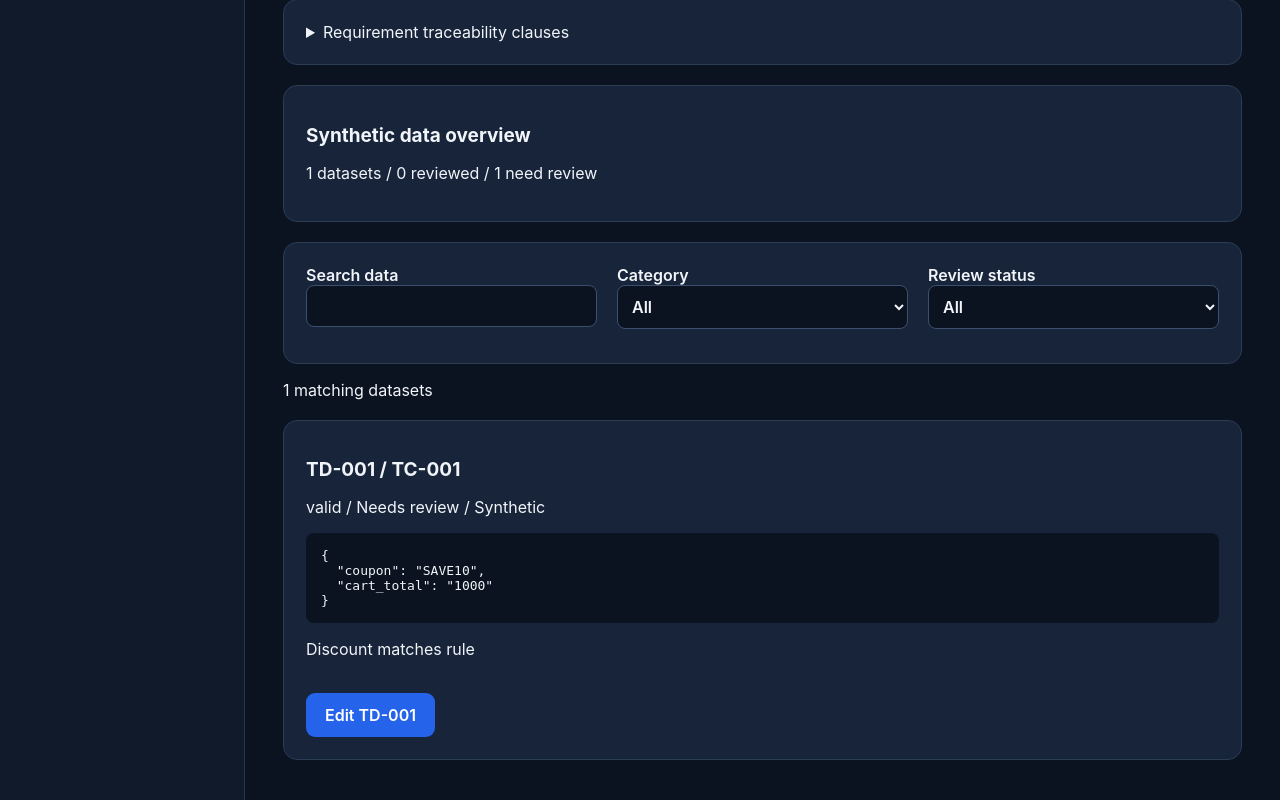
Test case: invalid fixture JSON cannot be saved
The width and height of the screenshot is (1280, 800).
(page scrolled)
Click the button "Edit TD-001". click: (370, 715)
box: top-left (306, 693), bottom-right (435, 737)
(page scrolled)
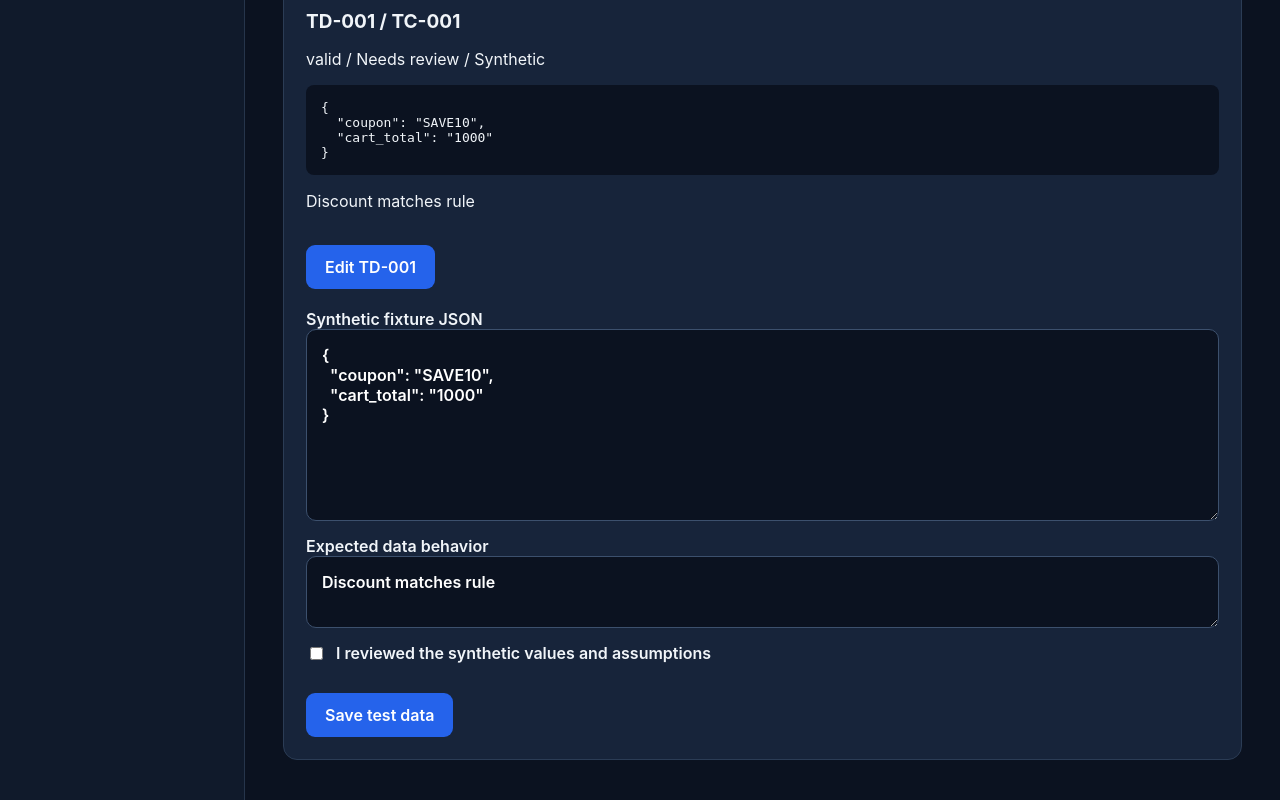
Replace the text in the text box labelled "Synthetic fixture JSON" with "not json". click: (762, 425)
box: top-left (306, 329), bottom-right (1219, 521)
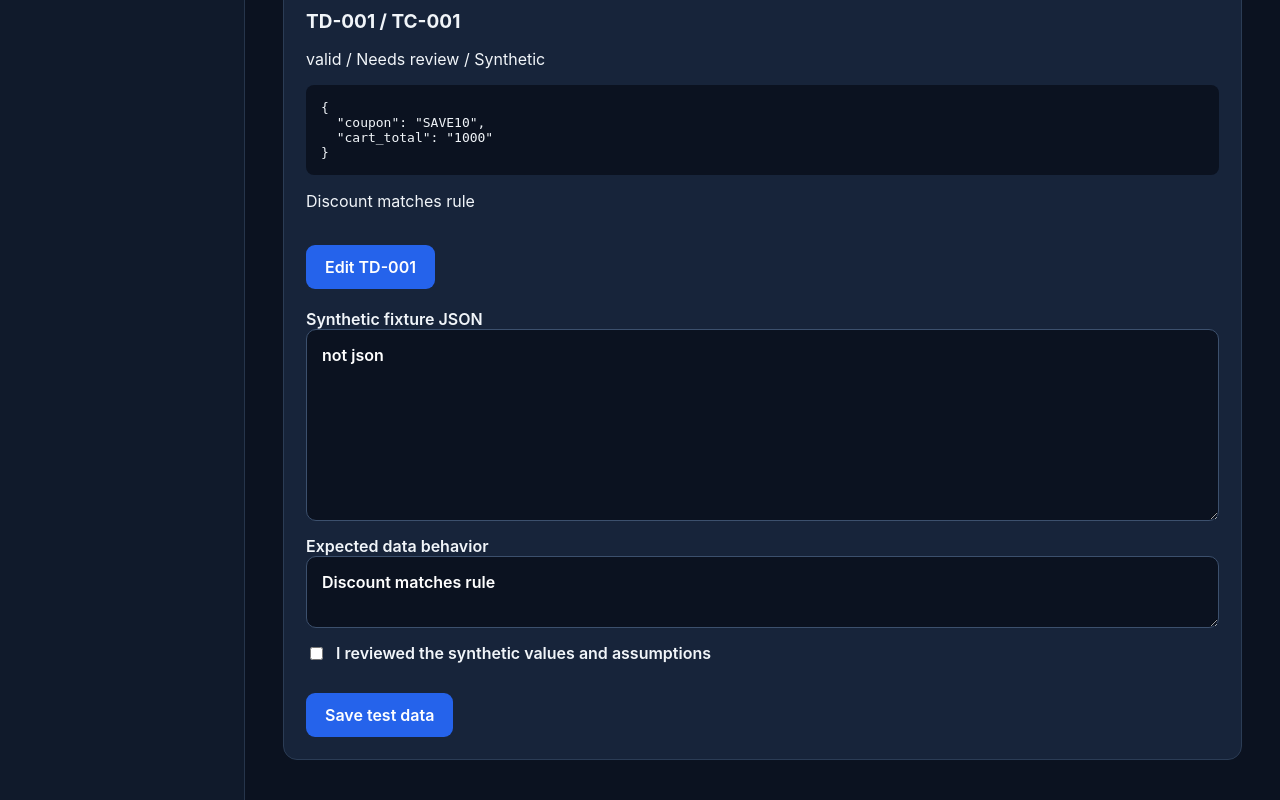
Click the button "Save test data". click: (380, 715)
box: top-left (306, 693), bottom-right (453, 737)
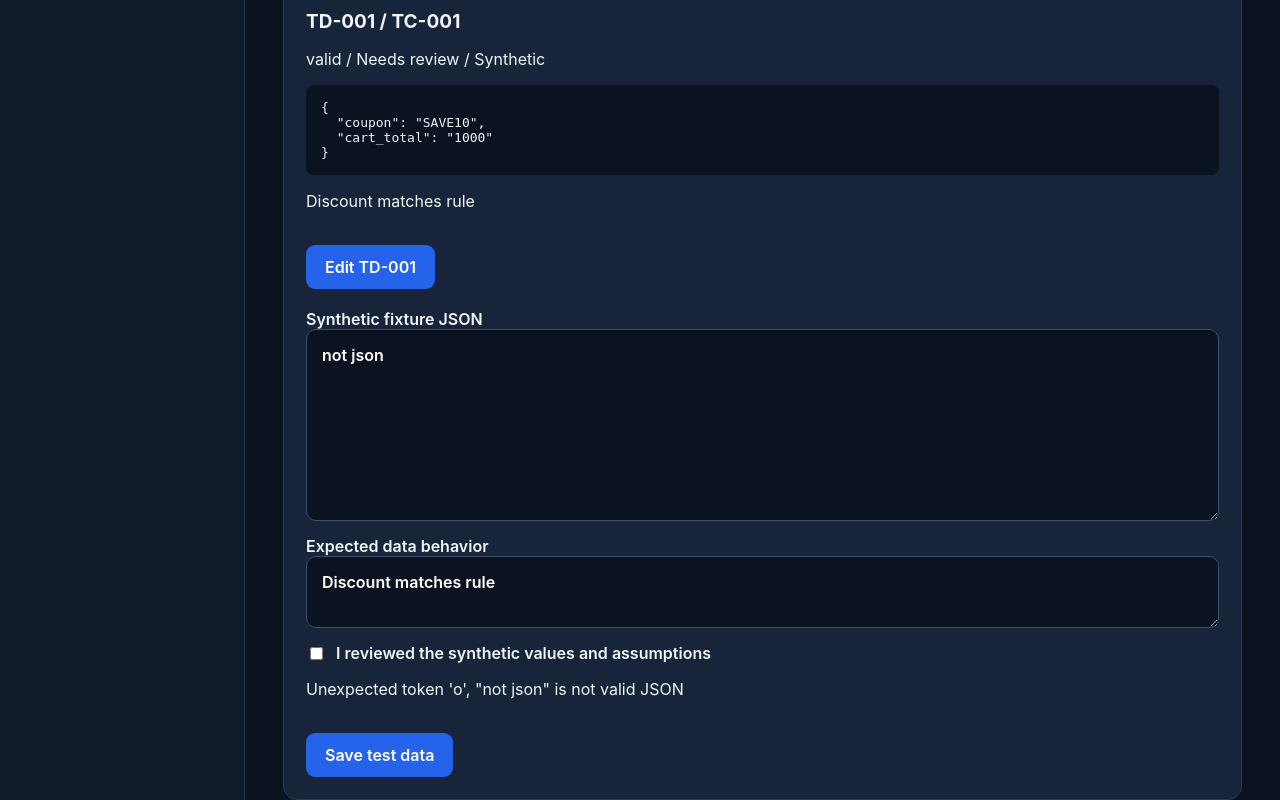
Expected: the message "Unexpected token 'o', \"not json\" is not valid JSON" is shown, top-left (306, 679), bottom-right (684, 699)
